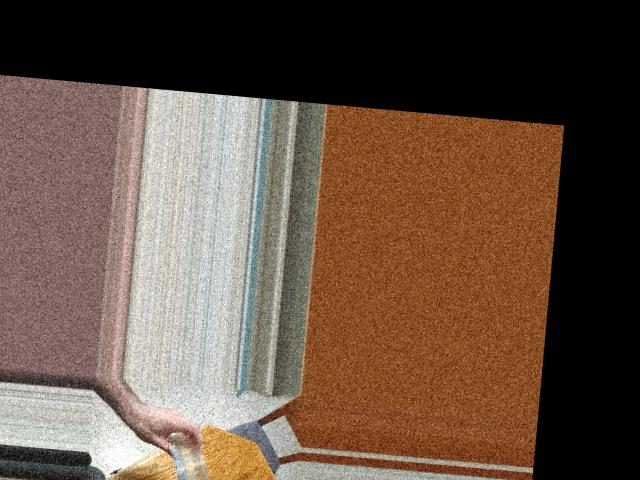cheese: (170, 423, 213, 480)
